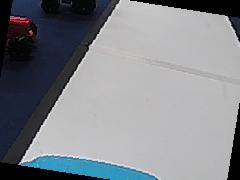Tracktor: (4, 11, 39, 61), (40, 1, 99, 18)
